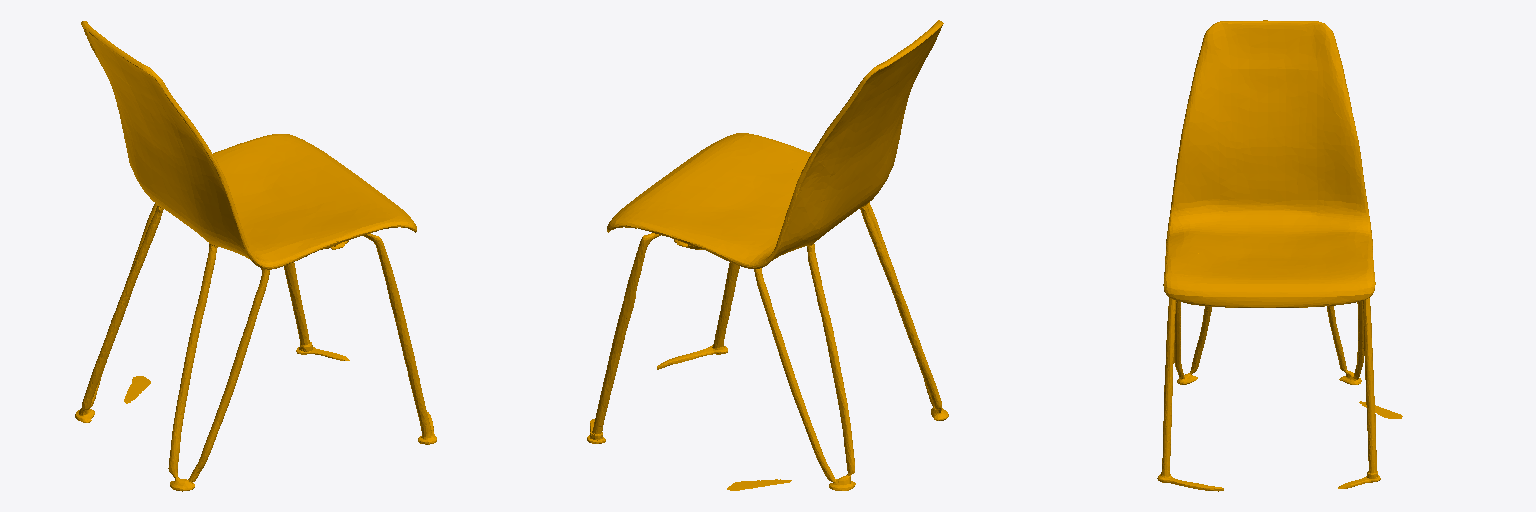
URDF robot description (dining_chair_2):
<?xml version="1.0" ?>
<robot name="dining_chair_2">
   <link name="dining_chair_2">
      <visual>
         <origin xyz="0 0 0" rpy="1.5708 0.0 0.0"/>
         <geometry>
            <mesh filename="mesh/dining_chair_2.obj" scale="1.0 1.0 1.0"/>
         </geometry>
      </visual>
      <collision>
         <origin xyz="0 0 0" rpy="1.5708 0.0 0.0"/>
         <geometry>
            <mesh filename="mesh/dining_chair_2_collision.obj" scale="1.0 1.0 1.0"/>
         </geometry>
         <gazebo>
            <mu1>0.60</mu1>
            <mu2>0.50</mu2>
         </gazebo>
      </collision>
      <inertial>
         <mass value="5.0000"/>
         <origin xyz="0 0 0"/>
         <inertia ixx="1.0" ixy="0.0" ixz="0.0" iyy="1.0" iyz="0.0" izz="1.0"/>
      </inertial>
      <extra_info>
         <scale>0.900000</scale>
         <version>v0.1.5</version>
         <category>dining_chair</category>
         <description>modern dining chair with curved backrest and metal legs</description>
         <min_height>0.8</min_height>
         <max_height>1.0</max_height>
         <real_height>0.9</real_height>
         <min_mass>4.0</min_mass>
         <max_mass>6.0</max_mass>
         <generate_time>20251021105930</generate_time>
         <gs_model>mesh/dining_chair_2_gs.ply</gs_model>
      </extra_info>
   </link>
   <custom_data>
      <quality>
         <MeshGeoChecker>YES</MeshGeoChecker>
         <ImageSegChecker>YES</ImageSegChecker>
         <ImageAestheticChecker>4.708112716674805</ImageAestheticChecker>
         <overall>YES</overall>
      </quality>
   </custom_data>
</robot>

--- What the picture shows (computed from the rendered views, not written in the file) ---
The picture shows the robot from 3 angles, left to right: view 1: azimuth 30°, elevation 25°; view 2: azimuth 150°, elevation 25°; view 3: azimuth 270°, elevation 25°; orthographic projection.
Robot: dining_chair_2 — 1 links, 0 joints (none); root link dining_chair_2; default pose: all joints at 0.
Visible links, largest first — view 1: dining_chair_2; view 2: dining_chair_2; view 3: dining_chair_2.
Boxes of the visible links, box(x1,y1,x2,y2) form: dining_chair_2: box(75, 21, 436, 491); dining_chair_2: box(587, 20, 948, 490); dining_chair_2: box(1157, 20, 1402, 491).
Size in the robot's own frame: 0.6518 by 0.5662 by 0.9 metres.
Meshes: 1 distinct files referenced, 1 mesh visuals loaded (1 OBJ).
